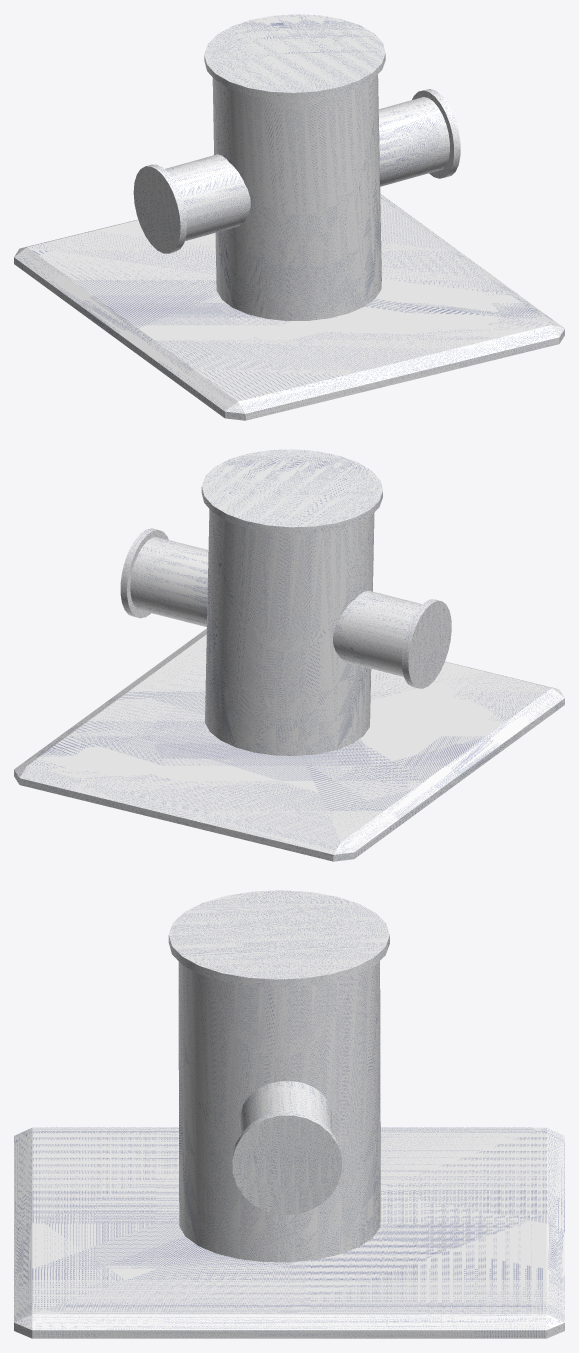
Rendered from mooringbit.dae.
3 views of the same model, one above another, from view 1: azimuth 30°, elevation 25°; view 2: azimuth 150°, elevation 25°; view 3: azimuth 270°, elevation 25° (orthographic). The views are drawn at different scales.
Parts seen in each view (by area): view 1: SketchUp (×6); view 2: SketchUp (×6); view 3: SketchUp (×5).
Boxes of the visible parts, x1,y1,x2,y2 form: SketchUp (×6): (14,14,564,420); SketchUp (×6): (14,449,564,861); SketchUp (×5): (14,890,564,1338).
Size of the model in its own units: 20.45 by 23.54 by 14.4.
